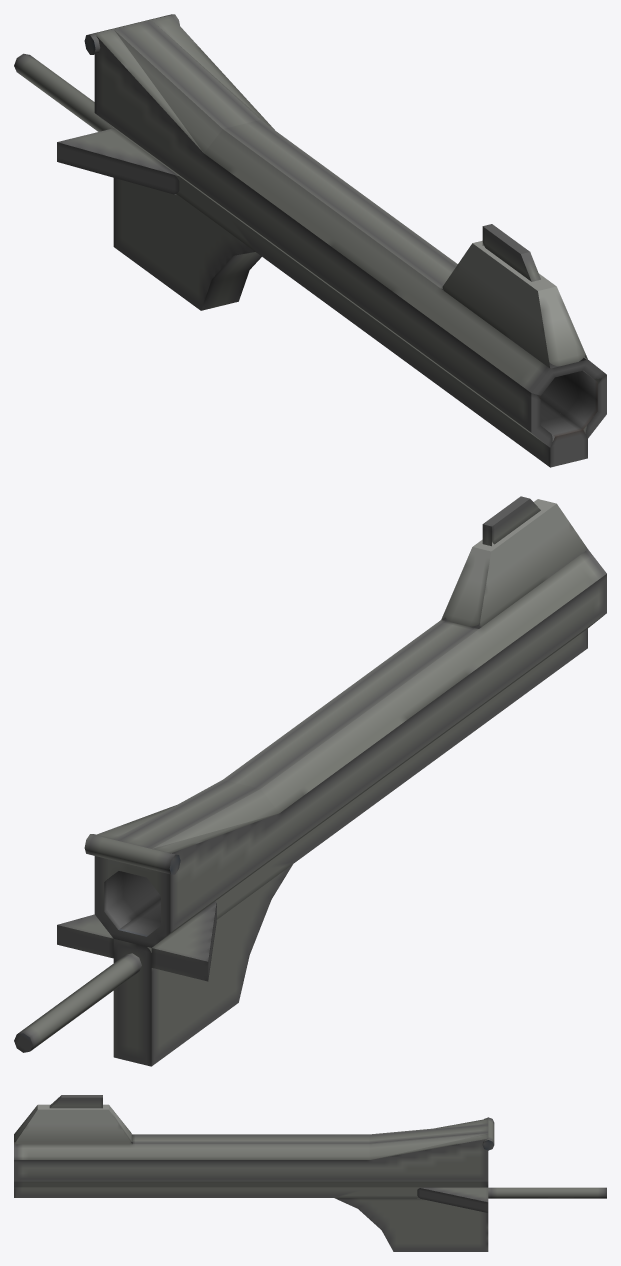
The model's file is revolver_barrel_atlas.obj.
3 views of the same model, one above another, from view 1: azimuth 30°, elevation 25°; view 2: azimuth 150°, elevation 25°; view 3: azimuth 270°, elevation 25° (orthographic). The views are drawn at different scales.
Parts seen in each view (by area): view 1: Barrel; view 2: Barrel; view 3: Barrel.
Boxes of the visible parts, left/top/right/bottom form: Barrel: left=14, top=14, right=606, bottom=467; Barrel: left=14, top=496, right=606, bottom=1066; Barrel: left=14, top=1095, right=606, bottom=1251.
Bounding box in the file's own units: 2 × 3.5 × 12.5.
